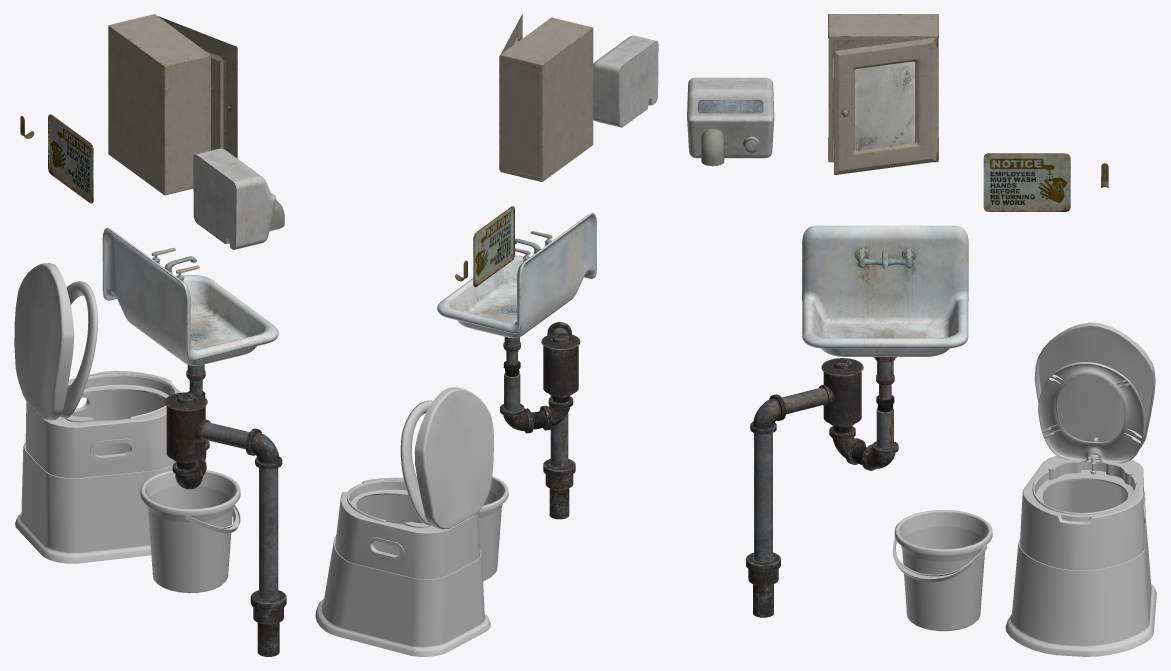
File: Shower.fbx
3 renders of one model, left to right at view 1: azimuth 30°, elevation 25°; view 2: azimuth 150°, elevation 25°; view 3: azimuth 270°, elevation 25°, orthographic. The views are drawn at different scales.
Parts seen in each view (by area): view 1: Toilet_Base_LP_27, MirrorCabinet_LP_4, BathroomSink_LP_11, PlasticBucket_Simple_LP_15, Sink_Pipes_Floor_LP_9, Toilet_Lid_LP_22, HandDryer_LP_5, Sign_LP_13, Toilet_Inside_LP_17, MirrorCabinet_Door_LP_2, Toilet_Seat_LP_26, Sink_Pipes_LP_10 (+3 smaller); view 2: Toilet_Base_LP_27, MirrorCabinet_LP_4, BathroomSink_LP_11, Toilet_Lid_LP_22, HandDryer_LP_5, Sink_Pipes_Floor_LP_9, Sink_Pipes_LP_10, Sign_LP_13, PlasticBucket_Simple_LP_15, Toilet_Inside_LP_17, Toilet_Seat_LP_26, MirrorCabinet_Door_LP_2; view 3: Toilet_Base_LP_27, BathroomSink_LP_11, PlasticBucket_Simple_LP_15, Toilet_Lid_LP_22, MirrorCabinet_Door_LP_2, Sink_Pipes_Floor_LP_9, HandDryer_LP_5, Sign_LP_13, Toilet_Seat_LP_26, MirrorCabinet_Mirror_LP_0, MirrorCabinet_LP_4, Sink_Pipes_LP_10 (+3 smaller).
Boxes of the visible parts, left/top/right/bottom form: Toilet_Base_LP_27: left=15, top=370, right=180, bottom=563; MirrorCabinet_LP_4: left=108, top=14, right=210, bottom=195; BathroomSink_LP_11: left=102, top=227, right=278, bottom=365; PlasticBucket_Simple_LP_15: left=140, top=470, right=240, bottom=593; Sink_Pipes_Floor_LP_9: left=164, top=392, right=286, bottom=656; Toilet_Lid_LP_22: left=14, top=263, right=74, bottom=420; HandDryer_LP_5: left=193, top=148, right=284, bottom=249; Sign_LP_13: left=48, top=114, right=93, bottom=203; Toilet_Inside_LP_17: left=74, top=390, right=165, bottom=455; MirrorCabinet_Door_LP_2: left=158, top=16, right=237, bottom=158; Toilet_Seat_LP_26: left=60, top=281, right=98, bottom=418; Sink_Pipes_LP_10: left=172, top=334, right=209, bottom=489; Toilet_Base_LP_27: left=315, top=477, right=490, bottom=656; MirrorCabinet_LP_4: left=500, top=17, right=593, bottom=181; BathroomSink_LP_11: left=437, top=212, right=596, bottom=338; Toilet_Lid_LP_22: left=414, top=387, right=493, bottom=529; HandDryer_LP_5: left=593, top=35, right=658, bottom=127; Sink_Pipes_Floor_LP_9: left=541, top=322, right=580, bottom=519; Sink_Pipes_LP_10: left=500, top=309, right=573, bottom=433; Sign_LP_13: left=473, top=206, right=514, bottom=286; PlasticBucket_Simple_LP_15: left=478, top=476, right=508, bottom=580; Toilet_Inside_LP_17: left=356, top=494, right=422, bottom=555; Toilet_Seat_LP_26: left=400, top=400, right=432, bottom=525; MirrorCabinet_Door_LP_2: left=499, top=14, right=522, bottom=170; Toilet_Base_LP_27: left=1005, top=455, right=1156, bottom=656; BathroomSink_LP_11: left=802, top=225, right=968, bottom=356; PlasticBucket_Simple_LP_15: left=894, top=510, right=992, bottom=631; Toilet_Lid_LP_22: left=1034, top=322, right=1155, bottom=457; MirrorCabinet_Door_LP_2: left=834, top=37, right=938, bottom=174; Sink_Pipes_Floor_LP_9: left=746, top=358, right=863, bottom=617; HandDryer_LP_5: left=687, top=77, right=774, bottom=166; Sign_LP_13: left=983, top=153, right=1070, bottom=211; Toilet_Seat_LP_26: left=1038, top=362, right=1144, bottom=463; MirrorCabinet_Mirror_LP_0: left=855, top=61, right=915, bottom=150; MirrorCabinet_LP_4: left=828, top=14, right=938, bottom=162; Sink_Pipes_LP_10: left=829, top=357, right=898, bottom=470.
Size of the model in its own units: 55.79 by 183 by 138.
